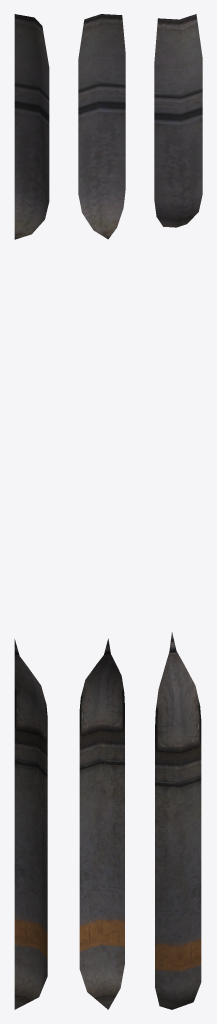
File: bathroom_convex_tiny.dae
The picture shows the model from 3 angles, left to right: view 1: azimuth 90°, elevation 25°; view 2: azimuth 150°, elevation 25°; view 3: azimuth 330°, elevation 25°; orthographic projection.
Parts seen in each view (by area): view 1: polySurface3; view 2: polySurface3; view 3: polySurface3.
Part boxes in pixels (left/top/right/bottom): polySurface3: left=14, top=14, right=49, bottom=1009; polySurface3: left=78, top=14, right=125, bottom=1009; polySurface3: left=154, top=14, right=202, bottom=1009.
Size of the model in its own units: 0.1234 by 3.85 by 0.1234.
